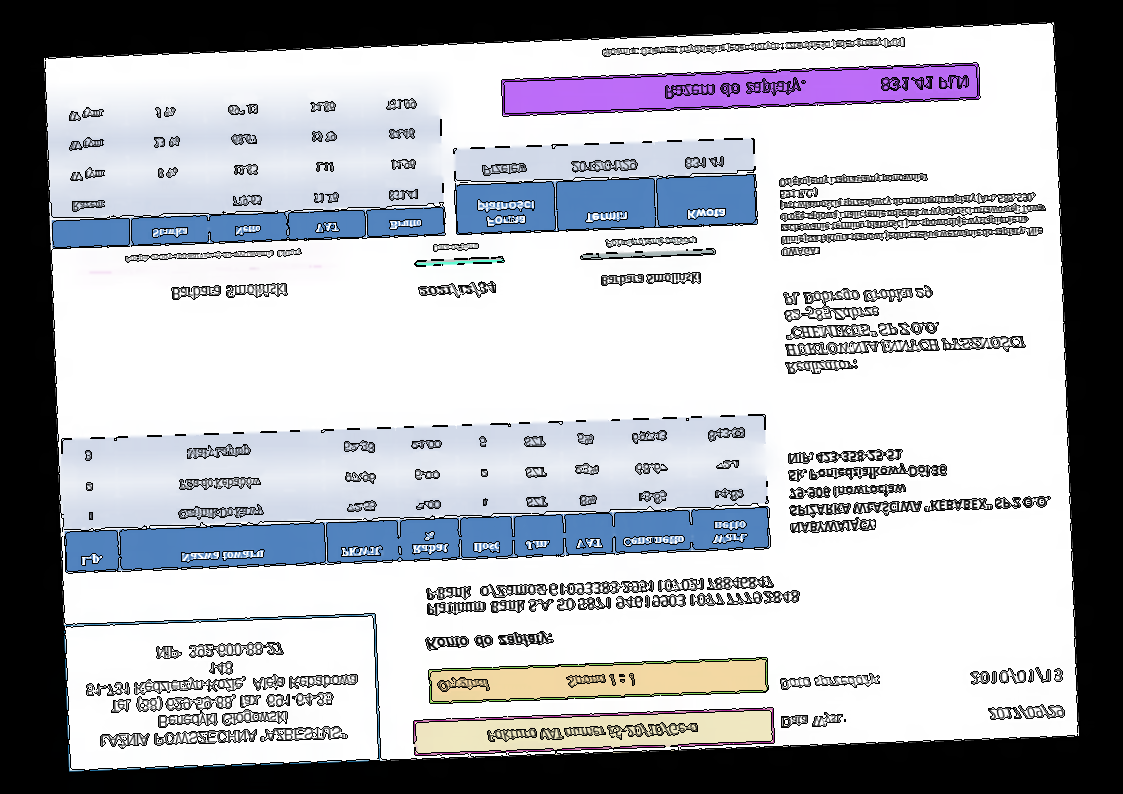Table: (60, 413, 771, 574), (46, 84, 446, 250), (452, 136, 759, 237)
TextBox: (82, 636, 362, 753), (786, 441, 1053, 535), (778, 166, 1048, 258), (781, 282, 1028, 378), (424, 572, 802, 619), (662, 70, 971, 103), (599, 34, 908, 60), (435, 669, 639, 695), (484, 721, 701, 745), (123, 247, 304, 266), (423, 629, 556, 654), (170, 281, 289, 303), (777, 671, 882, 693), (969, 664, 1063, 687), (598, 271, 703, 289), (417, 278, 498, 301), (985, 703, 1065, 723), (778, 709, 847, 731), (603, 235, 697, 250), (431, 242, 479, 254)
